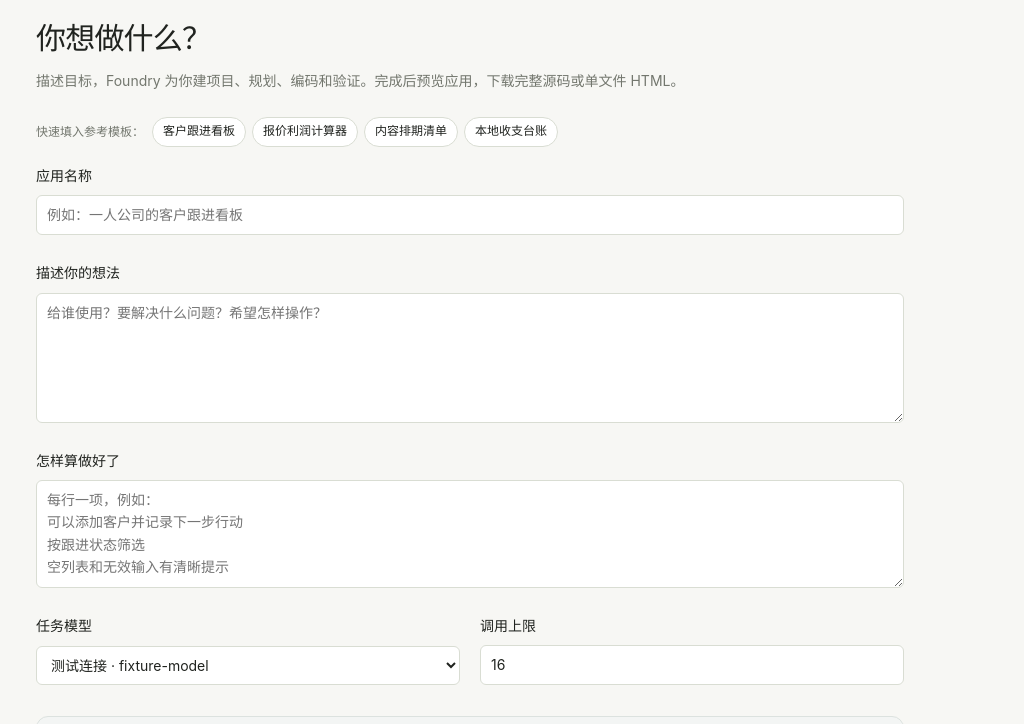
Test case: keeps the brief after a creation error without automatic retry
Type "预算工具" into the field labelled "应用名称" at (470, 215), box [36, 195, 904, 235]
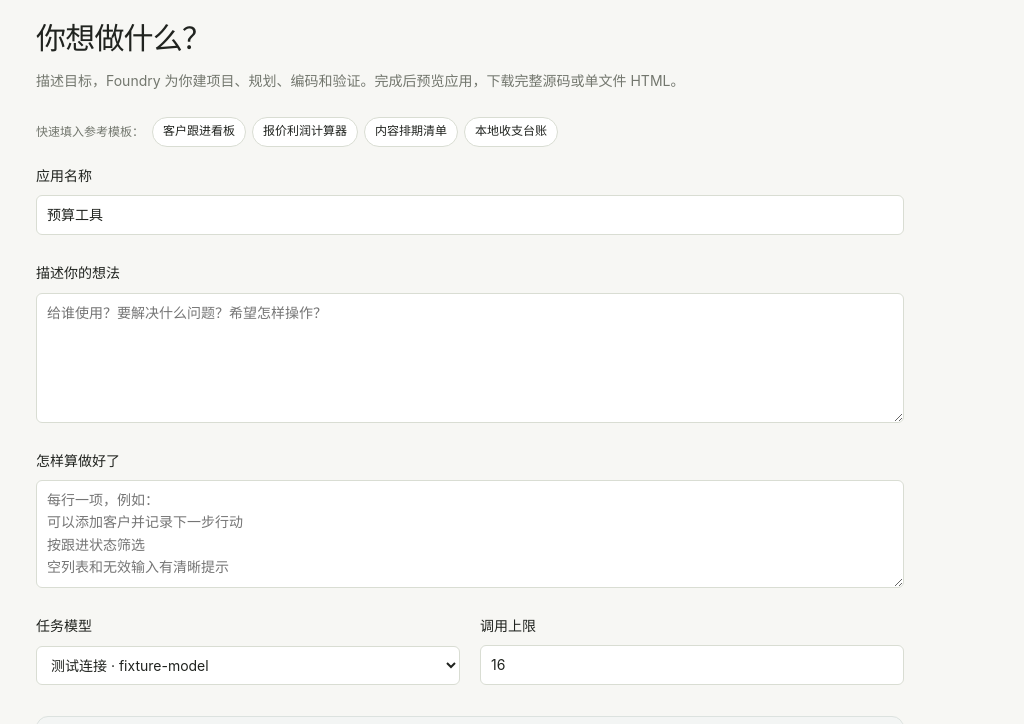
Type "记录开销" into the text box labelled "描述你的想法" at (470, 358), box [36, 293, 904, 423]
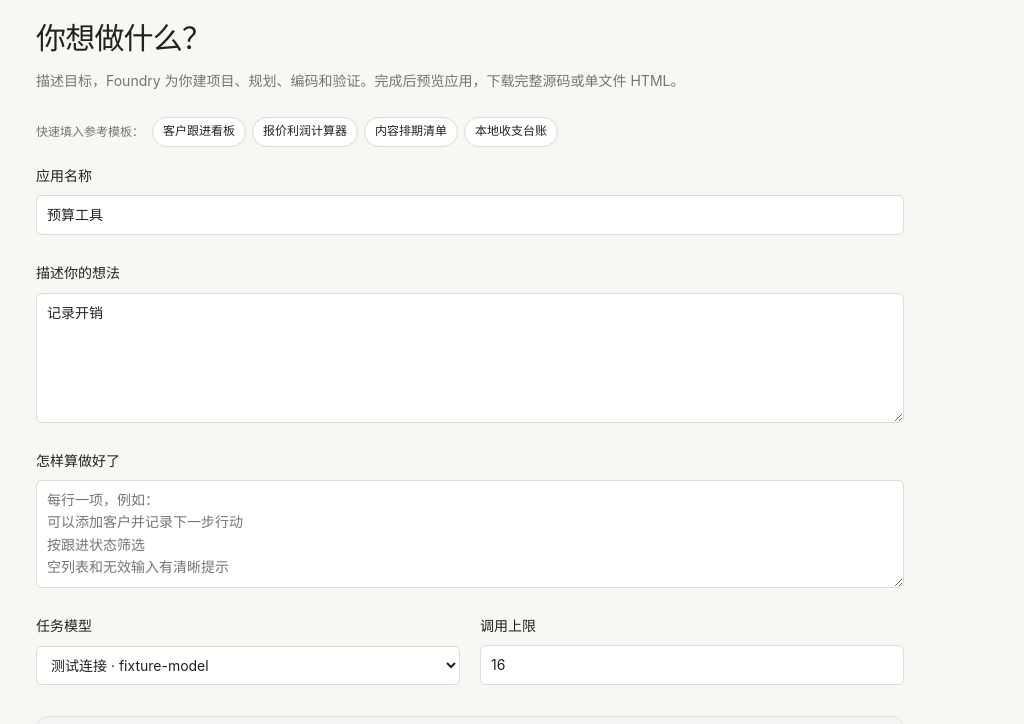
Type "显示总额" into the text box labelled "怎样算做好了" at (470, 534), box [36, 480, 904, 588]
(page scrolled)
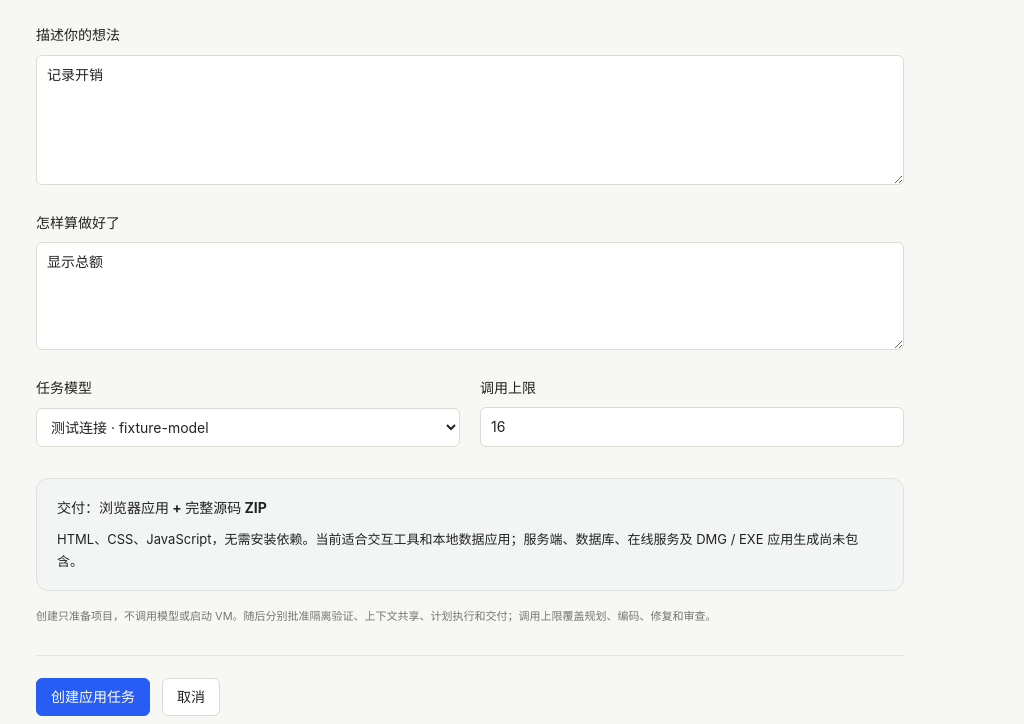
Click the button "创建应用任务" at (93, 697), box [36, 678, 150, 716]
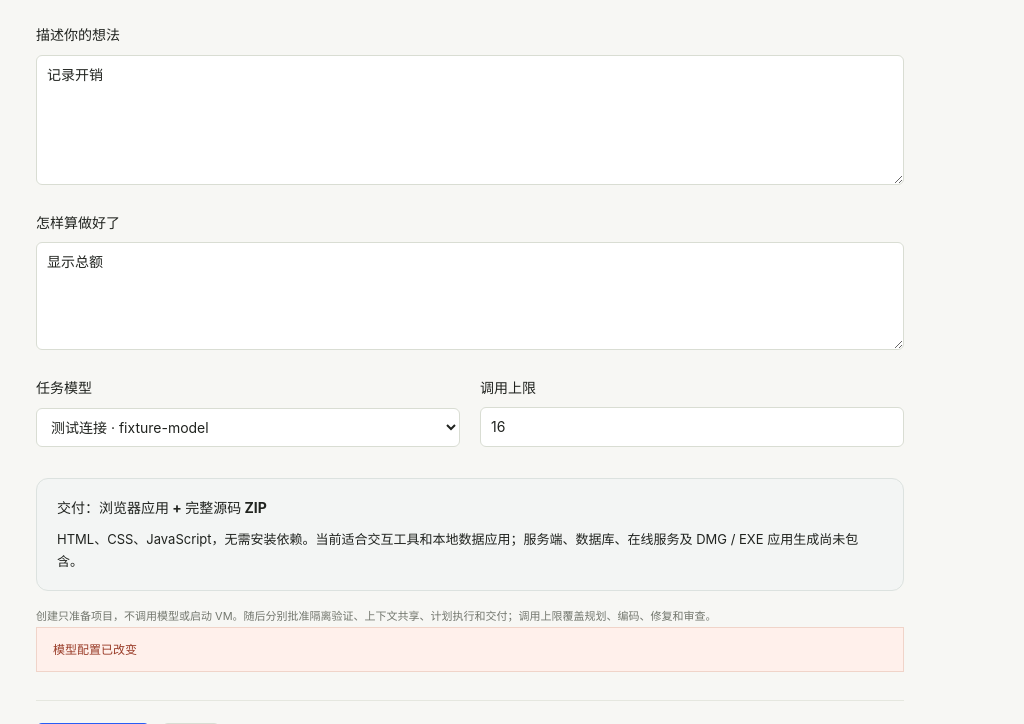
Expected: the message reads "模型配置已改变", [53, 642, 137, 657]
